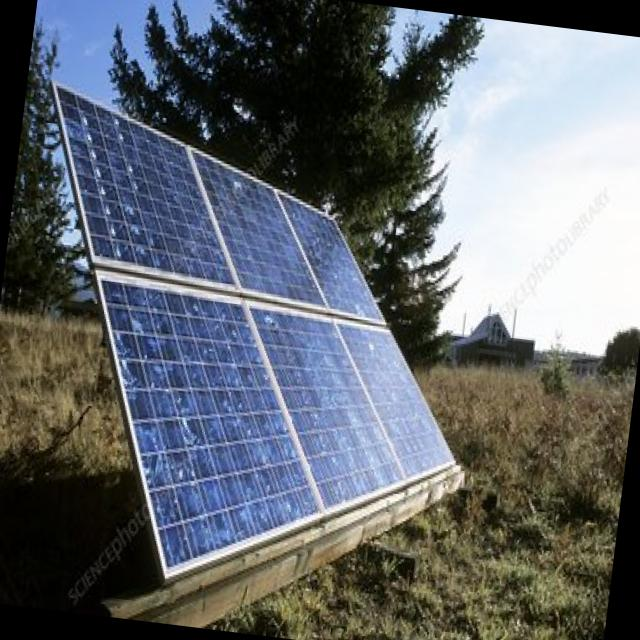faulty: (51, 99, 452, 577)
